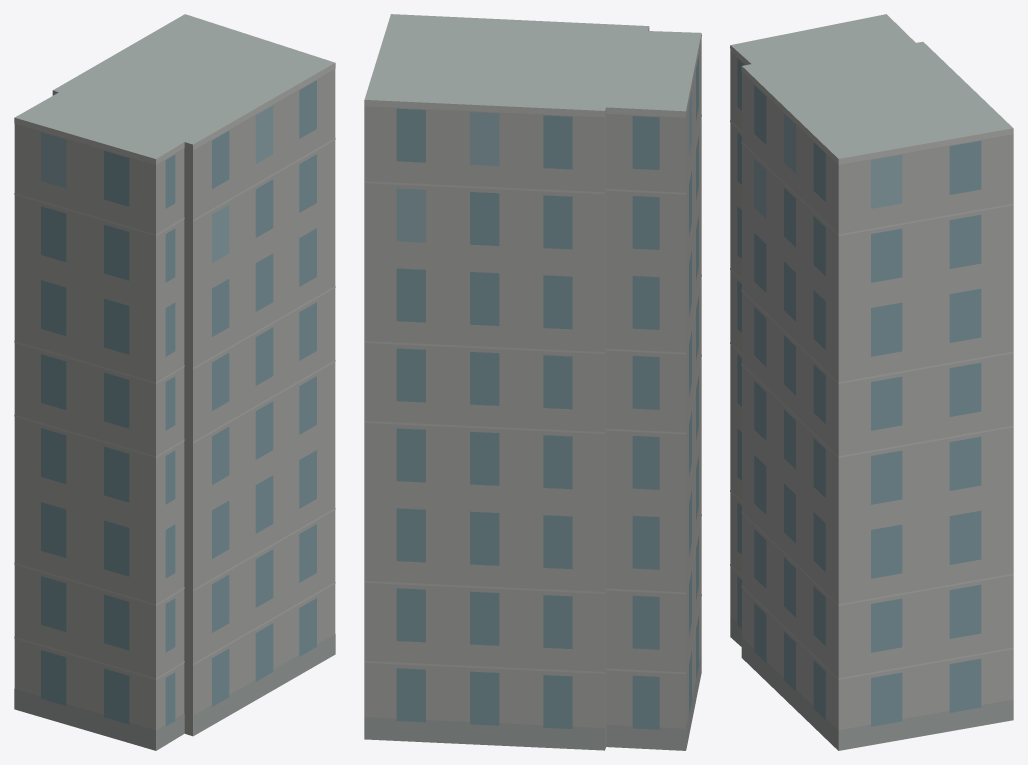
The model's file is survey-upis-32957937.glb.
The picture shows the model from 3 angles, left to right: view 1: azimuth 30°, elevation 25°; view 2: azimuth 150°, elevation 25°; view 3: azimuth 270°, elevation 25°; orthographic projection. The views are drawn at different scales.
Parts seen in each view (by area): view 1: survey-upis-32957937.tmp; view 2: survey-upis-32957937.tmp; view 3: survey-upis-32957937.tmp.
Boxes of the visible parts, box(x1,y1,x2,y2) form: survey-upis-32957937.tmp: box(14, 14, 335, 750); survey-upis-32957937.tmp: box(364, 14, 701, 750); survey-upis-32957937.tmp: box(730, 14, 1013, 750).
Size of the model in its own units: 12.84 by 24.4 by 10.6.
